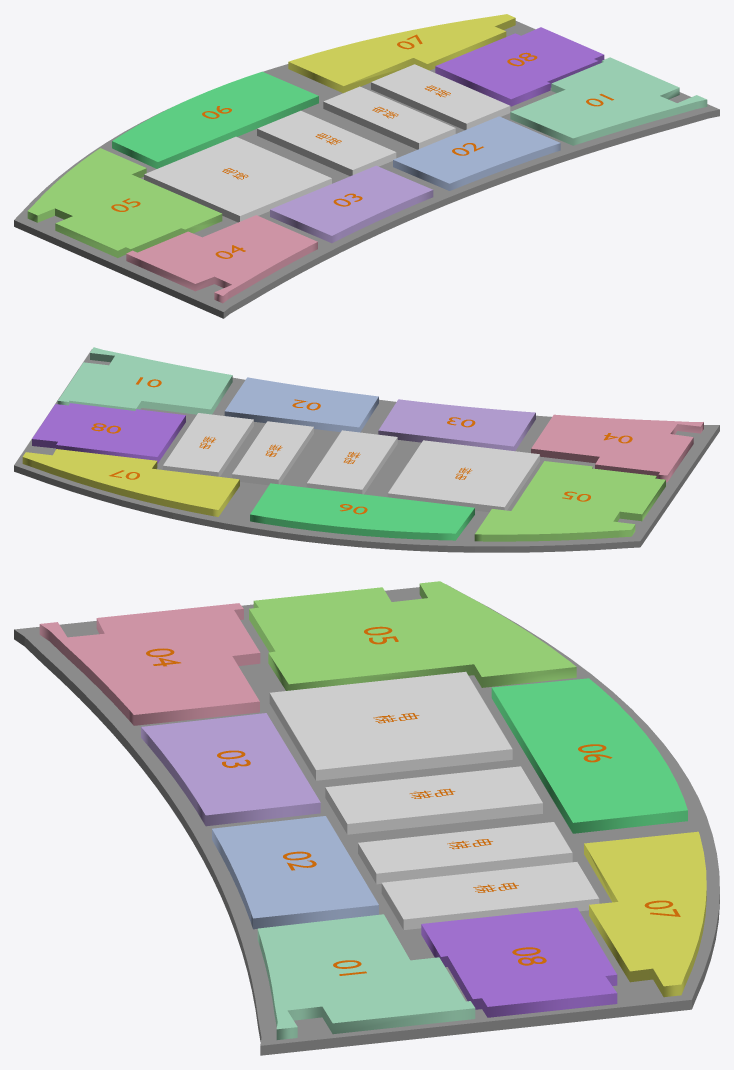
The model's file is floor.glb.
3 views of the same model, one above another, from view 1: azimuth 30°, elevation 25°; view 2: azimuth 150°, elevation 25°; view 3: azimuth 270°, elevation 25° (orthographic). The views are drawn at different scales.
Visible parts, largest first — view 1: lift, floor, unit.05, unit.06, unit.01, unit.4, unit.07, unit.08, unit.03, unit.02; view 2: lift, floor, unit.05, unit.06, unit.01, unit.4, unit.07, unit.08, unit.03, unit.02; view 3: lift, floor, unit.05, unit.06, unit.01, unit.4, unit.08, unit.07, unit.03, unit.02.
Part boxes in pixels (<box>): lift: <box>144,64,510,222</box>; floor: <box>14,21,719,318</box>; unit.05: <box>27,148,222,257</box>; unit.06: <box>112,71,318,168</box>; unit.01: <box>510,57,707,145</box>; unit.4: <box>126,215,317,303</box>; unit.07: <box>288,14,515,93</box>; unit.08: <box>435,27,604,106</box>; unit.03: <box>270,165,433,243</box>; unit.02: <box>393,116,560,190</box>; lift: <box>163,413,539,512</box>; floor: <box>14,349,719,552</box>; unit.05: <box>474,461,665,541</box>; unit.06: <box>250,483,474,540</box>; unit.01: <box>57,347,232,414</box>; unit.4: <box>531,414,703,482</box>; unit.07: <box>22,449,239,516</box>; unit.08: <box>32,403,185,463</box>; unit.03: <box>378,399,535,451</box>; unit.02: <box>224,377,378,432</box>; lift: <box>269,671,599,929</box>; floor: <box>14,584,719,1055</box>; unit.05: <box>249,581,576,690</box>; unit.06: <box>491,678,687,833</box>; unit.01: <box>257,914,475,1039</box>; unit.4: <box>39,603,260,725</box>; unit.08: <box>421,907,617,1017</box>; unit.07: <box>584,831,706,997</box>; unit.03: <box>141,713,320,826</box>; unit.02: <box>212,816,378,929</box>.
Bounding box in the file's own units: 75.19 × 1.81 × 48.6.
